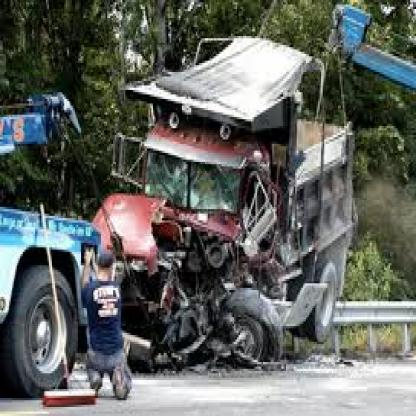accident: (83, 26, 359, 386)
